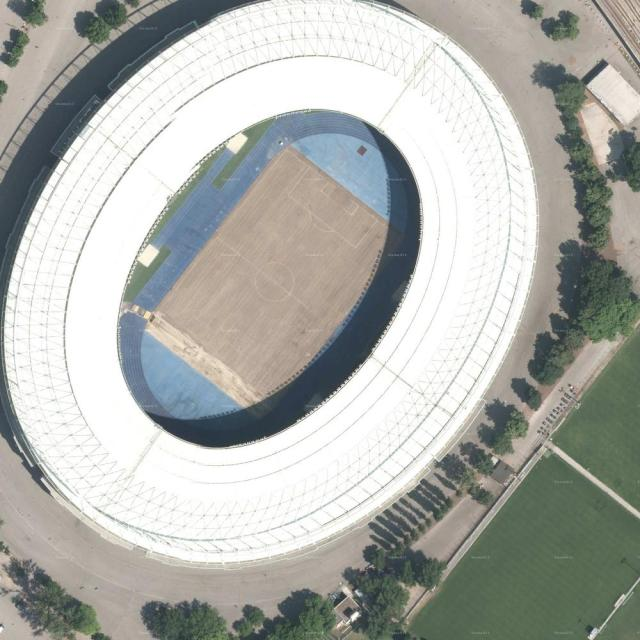greenland: (527, 51, 632, 255), (353, 566, 415, 640), (515, 327, 579, 393), (79, 13, 115, 49), (414, 554, 446, 592), (99, 0, 132, 31)
metalled_road: (505, 323, 625, 464), (412, 492, 495, 572), (612, 182, 640, 295)
